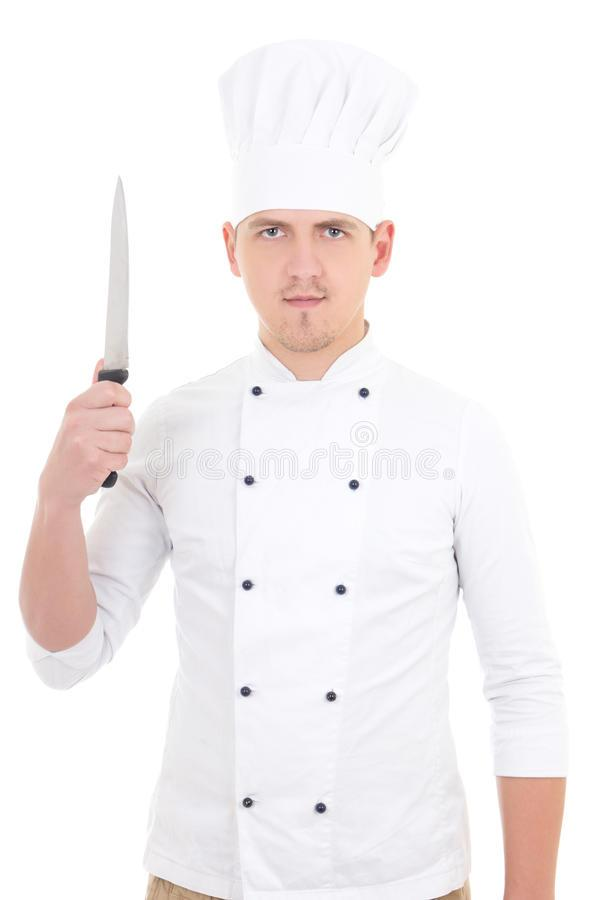criminal: (16, 36, 568, 900)
weapon: (91, 168, 134, 493)
